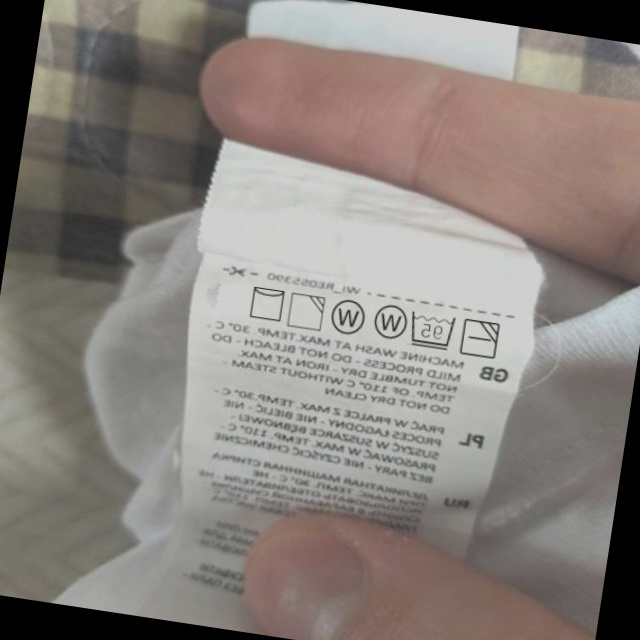95C: (405, 307, 458, 352)
dry_flat_in_shade: (458, 315, 503, 362)
line_dry: (244, 281, 289, 325)
shade_dry: (284, 289, 328, 333)
wet_clean: (369, 298, 410, 343), (327, 296, 368, 340)
